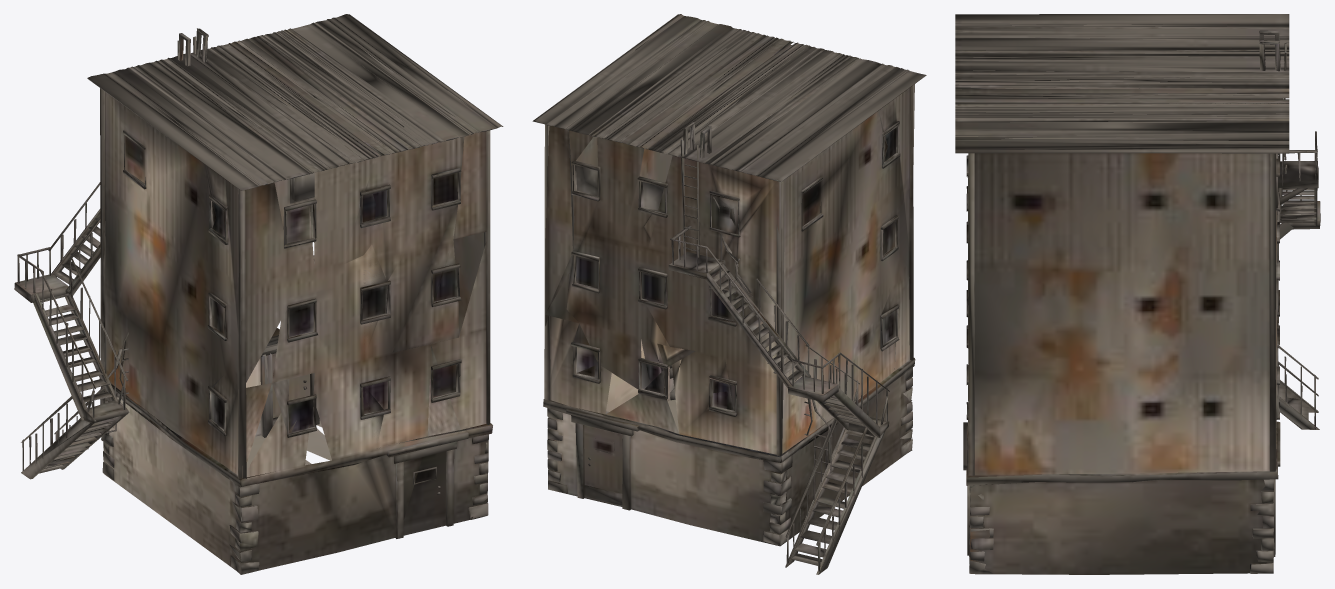
Rendered from hostel2.glb.
The picture shows the model from 3 angles, left to right: view 1: azimuth 30°, elevation 25°; view 2: azimuth 150°, elevation 25°; view 3: azimuth 270°, elevation 25°; orthographic projection. The views are drawn at different scales.
Size of the model in its own units: 0.7622 by 0.9517 by 0.6909.
1 material, 1 textured.
